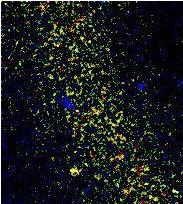star: (61, 157, 91, 187)
